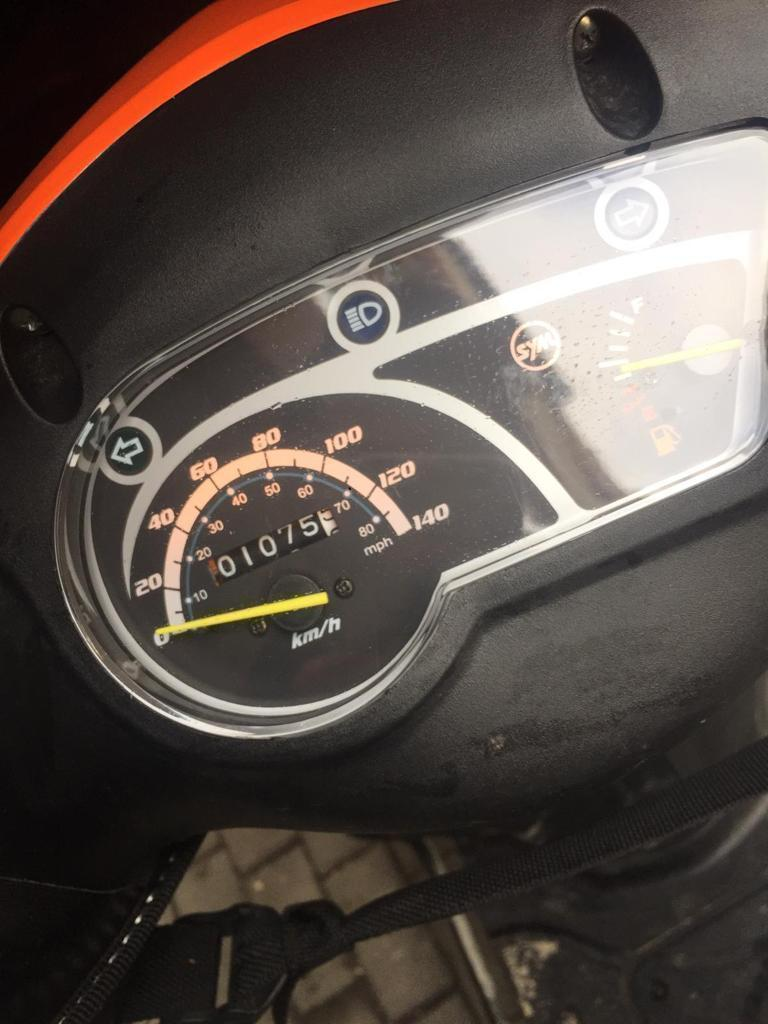0: (257, 532, 278, 557), (216, 554, 237, 577), (214, 518, 224, 530), (203, 546, 211, 556)
1: (240, 544, 254, 567)
3: (207, 523, 216, 534)
5: (297, 512, 318, 536), (319, 504, 334, 521)
7: (276, 522, 295, 545), (333, 503, 342, 514)
odometer: (201, 502, 343, 589)
